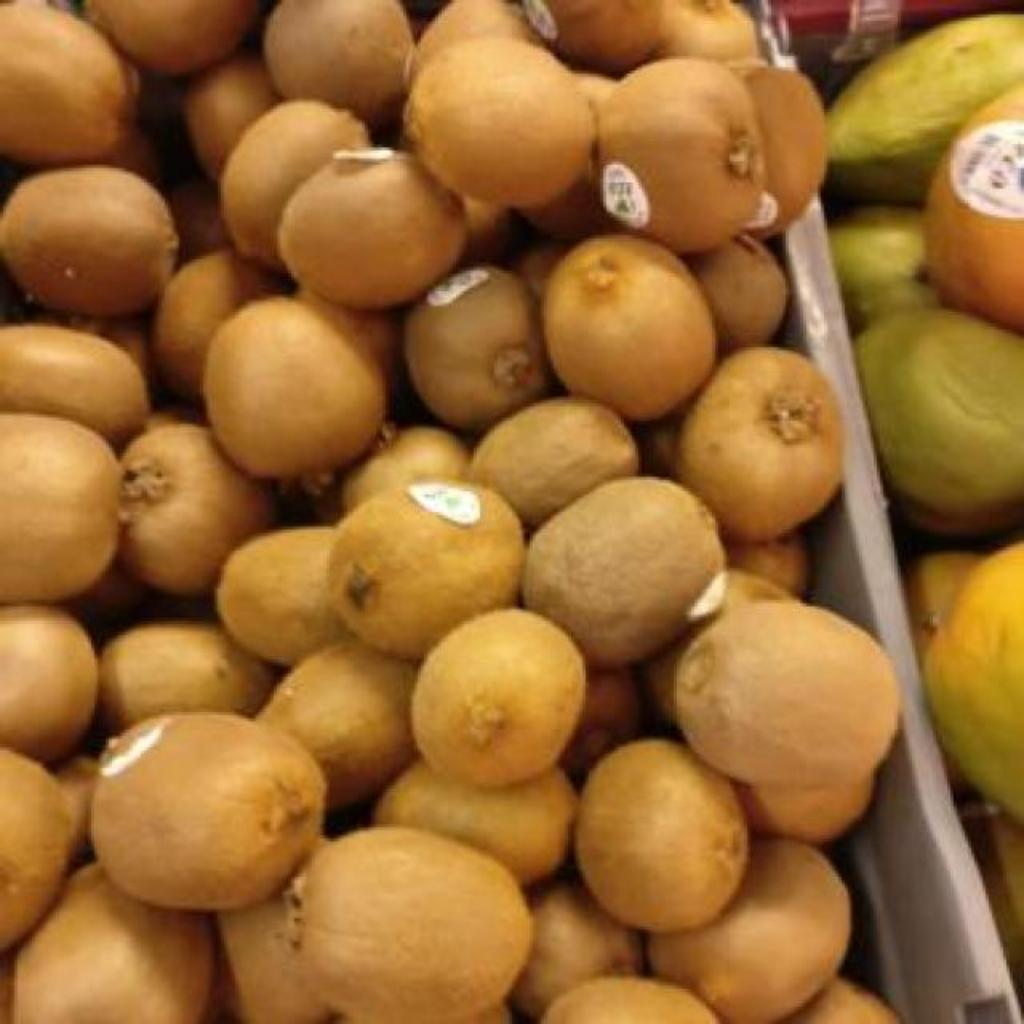kiwi: (92, 714, 326, 909), (300, 828, 532, 1023), (672, 600, 900, 785), (524, 480, 726, 665), (650, 840, 850, 1024), (202, 294, 390, 477), (672, 346, 844, 541), (334, 482, 522, 657), (576, 740, 748, 931), (13, 864, 214, 1024), (408, 36, 596, 207), (600, 58, 762, 252), (546, 234, 714, 421), (412, 608, 586, 787), (278, 150, 466, 309), (258, 640, 416, 809), (0, 168, 178, 315), (120, 424, 274, 593), (220, 100, 370, 267), (379, 760, 576, 883), (404, 266, 550, 429), (0, 412, 120, 603), (0, 6, 134, 165), (472, 400, 638, 525), (154, 248, 290, 399), (100, 624, 276, 731), (264, 0, 414, 125), (216, 526, 346, 665), (0, 326, 150, 445), (512, 882, 642, 1019), (218, 886, 328, 1024), (0, 606, 94, 759), (0, 748, 70, 947), (744, 68, 824, 231), (90, 0, 255, 73), (686, 236, 788, 353), (190, 54, 278, 179), (344, 428, 466, 511), (416, 0, 542, 71), (738, 776, 871, 843), (540, 976, 720, 1023), (544, 0, 659, 73), (660, 3, 758, 65)
